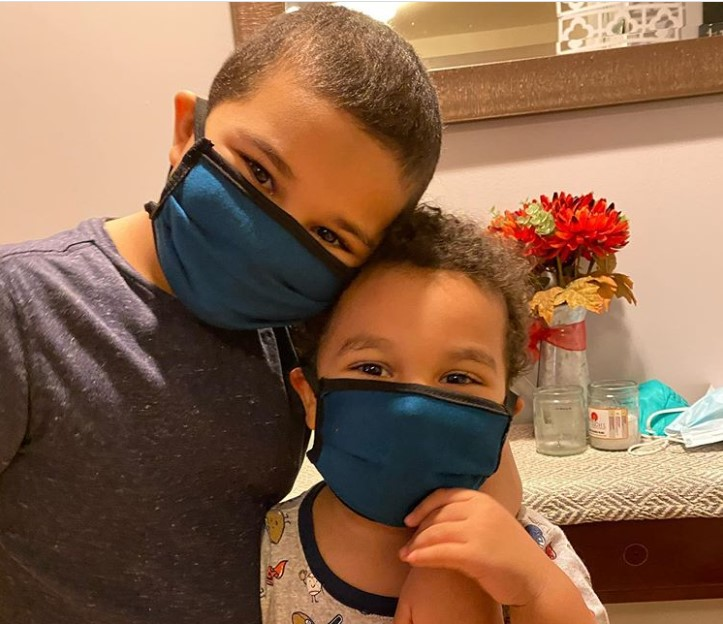face_with_mask: (170, 8, 441, 330), (287, 232, 521, 522)
